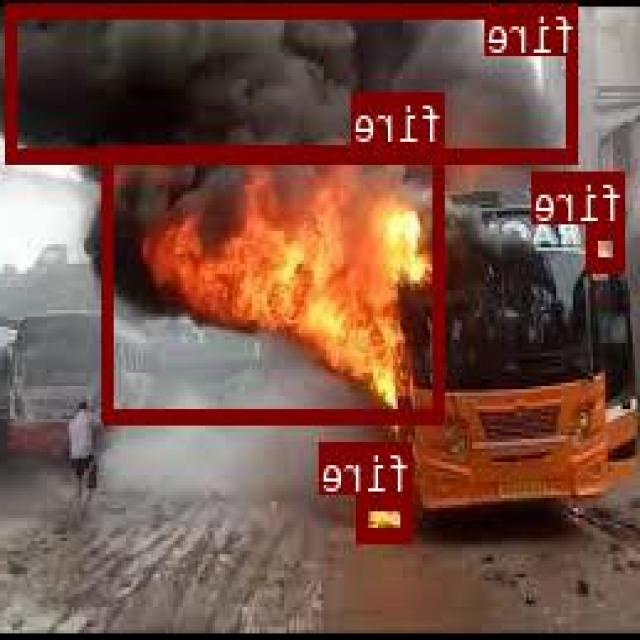fire: (106, 143, 447, 420), (8, 2, 579, 161), (361, 492, 413, 541), (590, 222, 628, 269)
